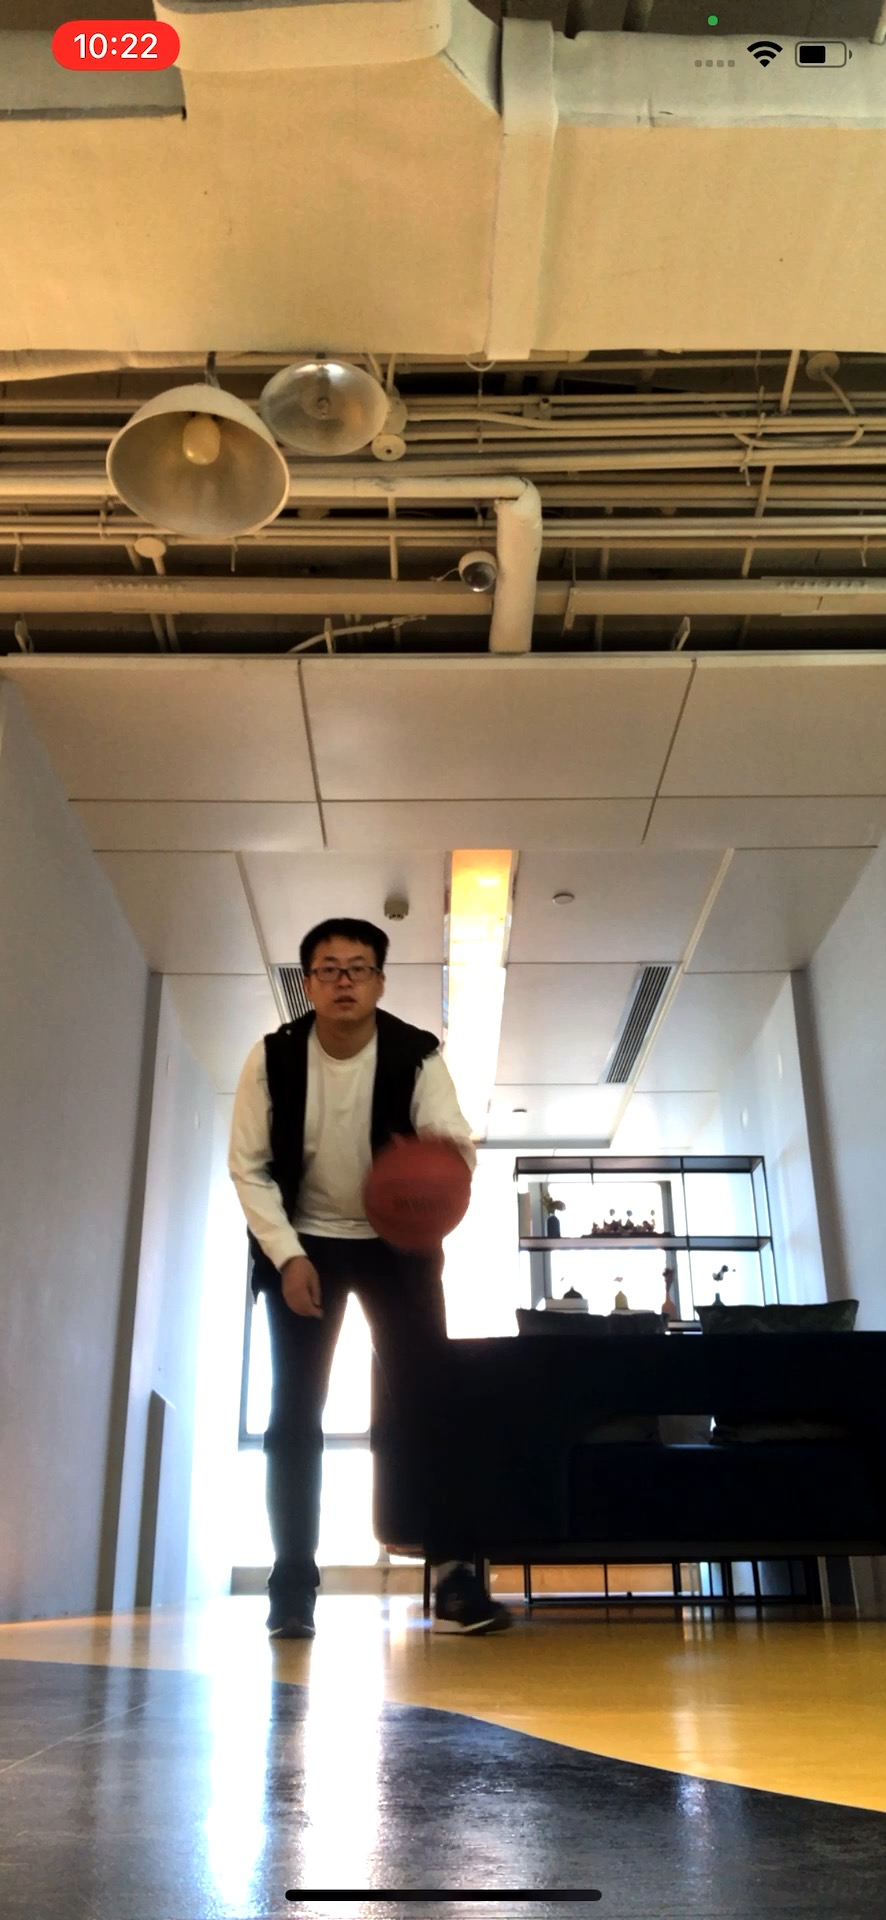ball: (359, 1135, 472, 1253)
